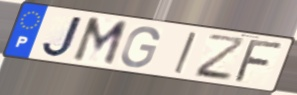F: (231, 39, 287, 84)
G: (118, 25, 161, 69)
I: (172, 30, 199, 76)
J: (40, 14, 86, 58)
M: (70, 16, 131, 69)
Z: (193, 33, 248, 83)
